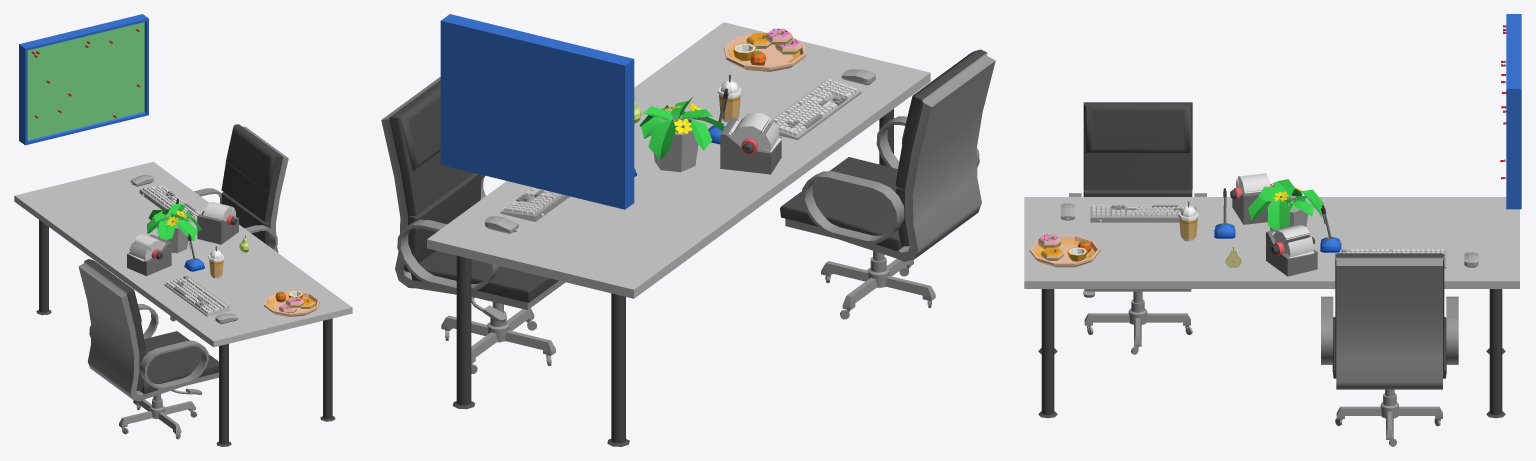
Rendered from OficinasObjetos01.fbx.
3 renders of one model, left to right at view 1: azimuth 30°, elevation 25°; view 2: azimuth 150°, elevation 25°; view 3: azimuth 270°, elevation 25°, orthographic. The views are drawn at different scales.
Parts seen in each view (by area): view 1: OficinasObjetos01; view 2: OficinasObjetos01; view 3: OficinasObjetos01.
Boxes of the visible parts, x1,y1,x2,y2 form: OficinasObjetos01: (14, 14, 352, 446); OficinasObjetos01: (381, 14, 995, 446); OficinasObjetos01: (1024, 14, 1521, 446).
Size of the model in its own units: 234 by 220 by 302.
